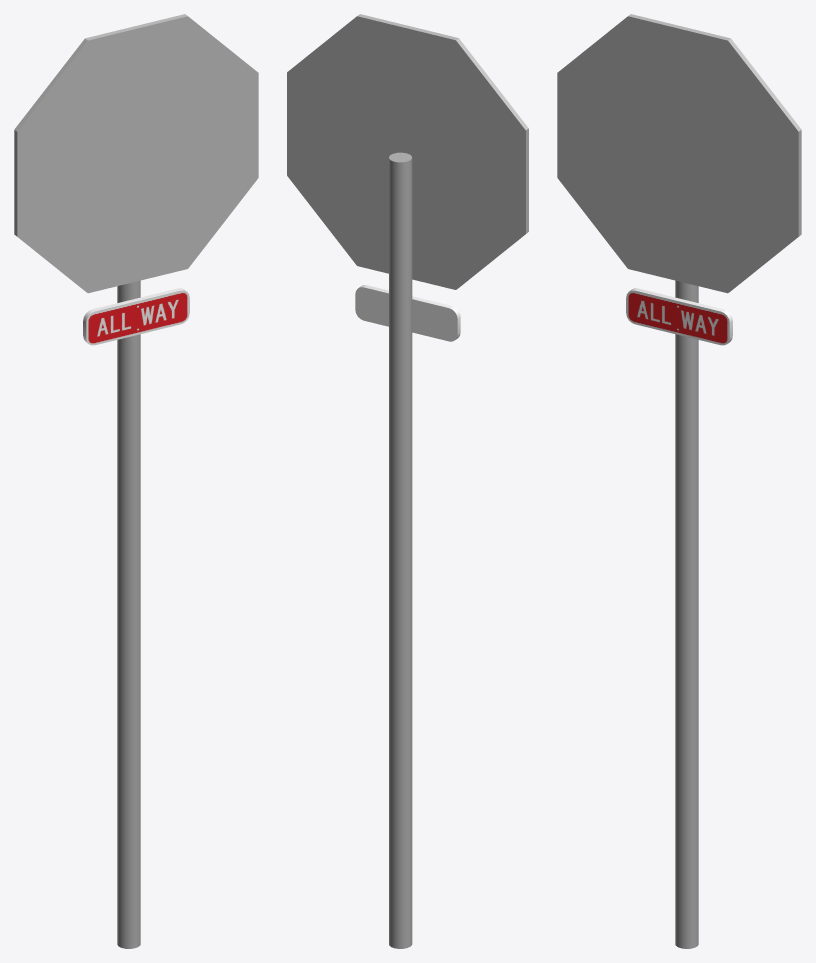
File: stop_sign_allway.fbx
The picture shows the model from 3 angles, left to right: view 1: azimuth 30°, elevation 25°; view 2: azimuth 150°, elevation 25°; view 3: azimuth 330°, elevation 25°; orthographic projection.
Parts seen in each view (by area): view 1: Plane; view 2: Plane; view 3: Plane.
Part boxes in pixels (bbox=[...]): Plane: bbox=[14, 14, 258, 948]; Plane: bbox=[287, 14, 528, 948]; Plane: bbox=[557, 14, 801, 948].
Size of the model in its own units: 185 by 674 by 19.83.
